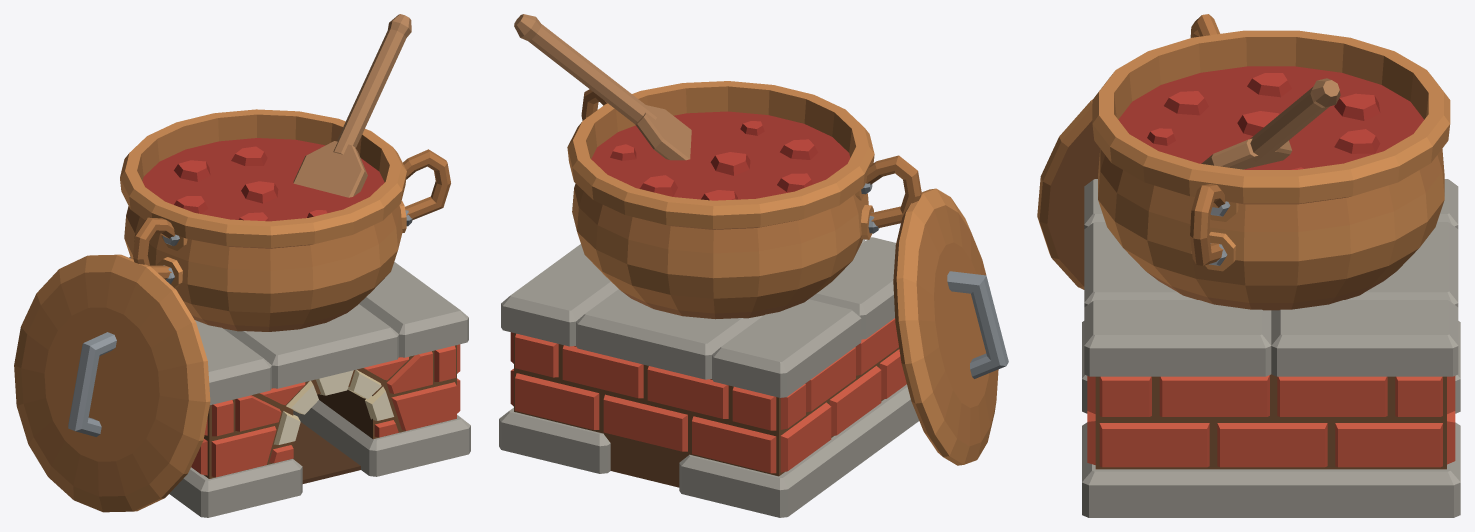
File: FMS_Workshop_STA_07.fbx
3 views of the same model, side by side, from view 1: azimuth 30°, elevation 25°; view 2: azimuth 150°, elevation 25°; view 3: azimuth 270°, elevation 25° (orthographic). The views are drawn at different scales.
Parts seen in each view (by area): view 1: FMS_Workshop_STA_07_Body, FMS_Workshop_STA_07_Lid, FMS_Workshop_STA_07_Paddle; view 2: FMS_Workshop_STA_07_Body, FMS_Workshop_STA_07_Lid, FMS_Workshop_STA_07_Paddle; view 3: FMS_Workshop_STA_07_Body, FMS_Workshop_STA_07_Lid, FMS_Workshop_STA_07_Paddle.
Part boxes in pixels (<box>): FMS_Workshop_STA_07_Body: <box>120,109,470,517</box>; FMS_Workshop_STA_07_Lid: <box>14,254,210,512</box>; FMS_Workshop_STA_07_Paddle: <box>293,14,411,197</box>; FMS_Workshop_STA_07_Body: <box>499,81,921,517</box>; FMS_Workshop_STA_07_Lid: <box>893,188,1008,465</box>; FMS_Workshop_STA_07_Paddle: <box>514,14,691,160</box>; FMS_Workshop_STA_07_Body: <box>1082,14,1460,517</box>; FMS_Workshop_STA_07_Lid: <box>1037,99,1100,289</box>; FMS_Workshop_STA_07_Paddle: <box>1201,78,1340,169</box>.
Size of what is drawn, in the model's own units: 1.26 by 1.08 by 0.9167.
